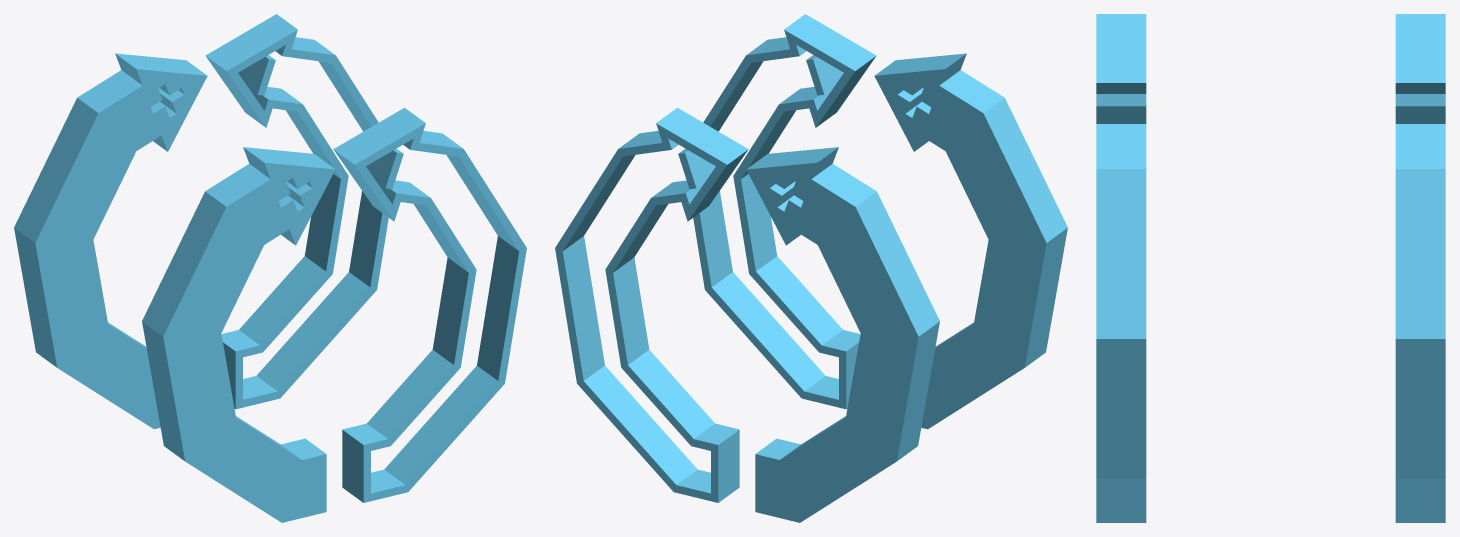
File: epe_robotic_hinge_small_arrow.dae
3 views of the same model, side by side, from view 1: azimuth 30°, elevation 25°; view 2: azimuth 150°, elevation 25°; view 3: azimuth 270°, elevation 25° (orthographic). The views are drawn at different scales.
Parts seen in each view (by area): view 1: small_robotic_hinge_arrow; view 2: small_robotic_hinge_arrow; view 3: small_robotic_hinge_arrow.
Part boxes in pixels (bbox=[...]): small_robotic_hinge_arrow: bbox=[14, 14, 526, 522]; small_robotic_hinge_arrow: bbox=[555, 14, 1067, 522]; small_robotic_hinge_arrow: bbox=[1096, 14, 1445, 522].
Bounding box in the file's own units: 0.4924 × 0.35 × 0.4717.
